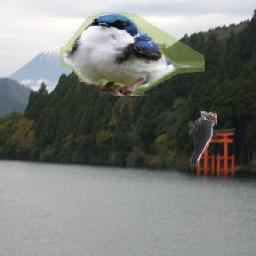Swallow: (61, 12, 206, 96)
Woodpecker: (189, 111, 218, 167)
